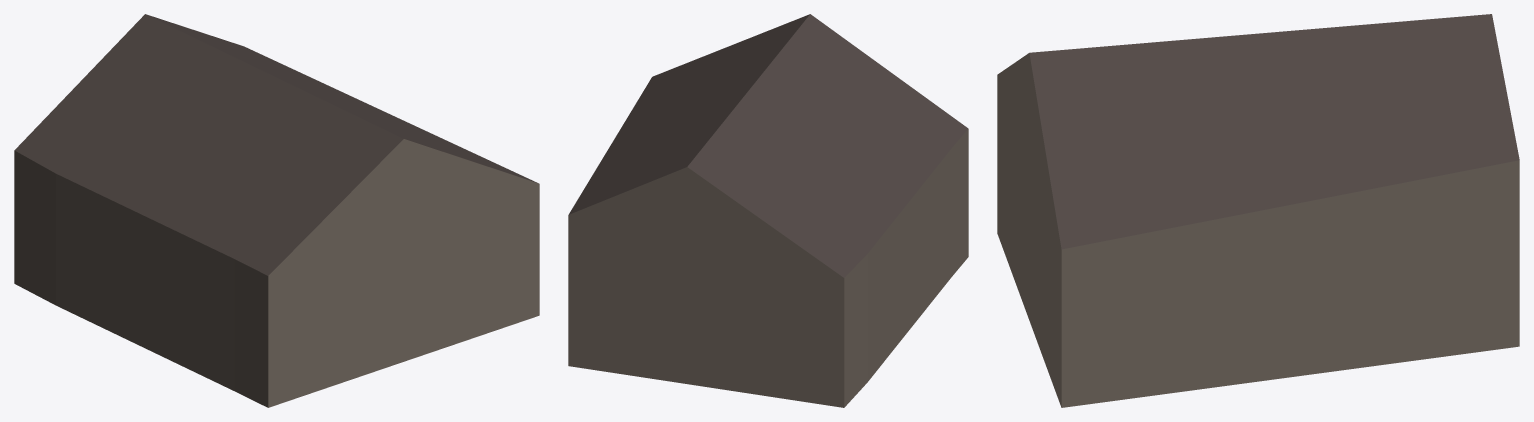
3 views of the same model, side by side, from view 1: azimuth 30°, elevation 25°; view 2: azimuth 150°, elevation 25°; view 3: azimuth 270°, elevation 25° (orthographic). The views are drawn at different scales.
Visible parts, largest first — view 1: HP-w1196661457; view 2: HP-w1196661457; view 3: HP-w1196661457.
Boxes of the visible parts, bbox=[...] form: HP-w1196661457: bbox=[14, 14, 539, 407]; HP-w1196661457: bbox=[568, 14, 968, 407]; HP-w1196661457: bbox=[997, 14, 1519, 407].
Bounding box in the file's own units: 17.19 × 10.14 × 17.93.
